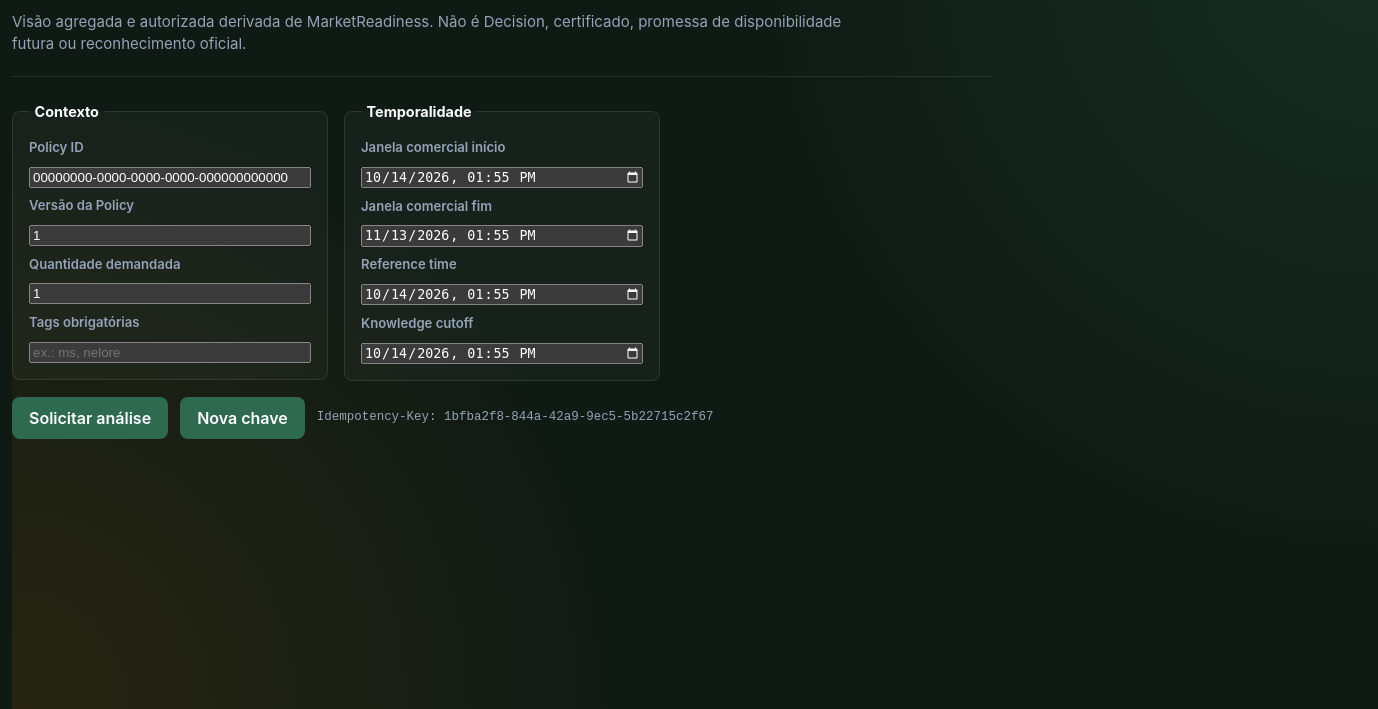
Test: MarketSupplyAggregate › mostra RELEASED com somente agregados públicos
This screenshot has width=1378, height=709.
What coordinates should you click on to do the following:
click the button "Solicitar análise"
I would click on:
 (90, 418)
Its box is [12,397,168,439].
(page scrolled)
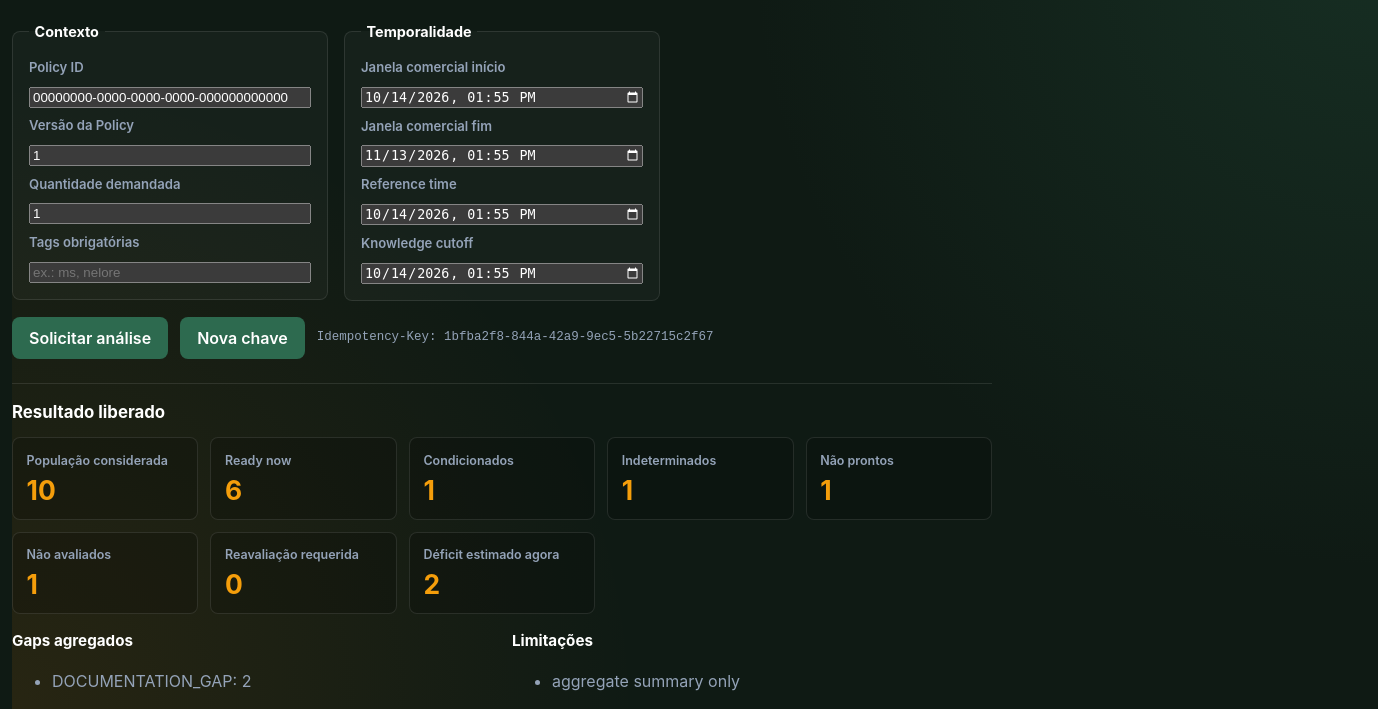
Check: the heading "Resultado liberado" is shown, box [12,402,165,422]
Check: the text "Ready now" is shown, box [225,453,292,468]
Check: the text "6" is shown, box [225,474,242,506]
